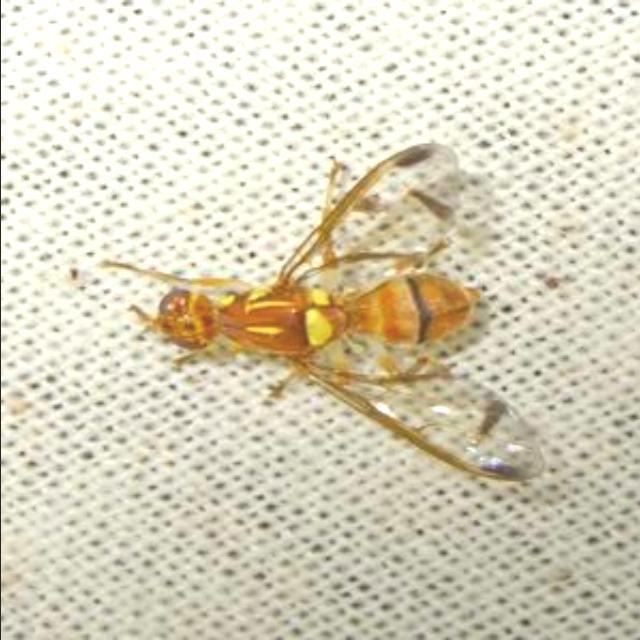melon fly: (44, 59, 576, 544)
